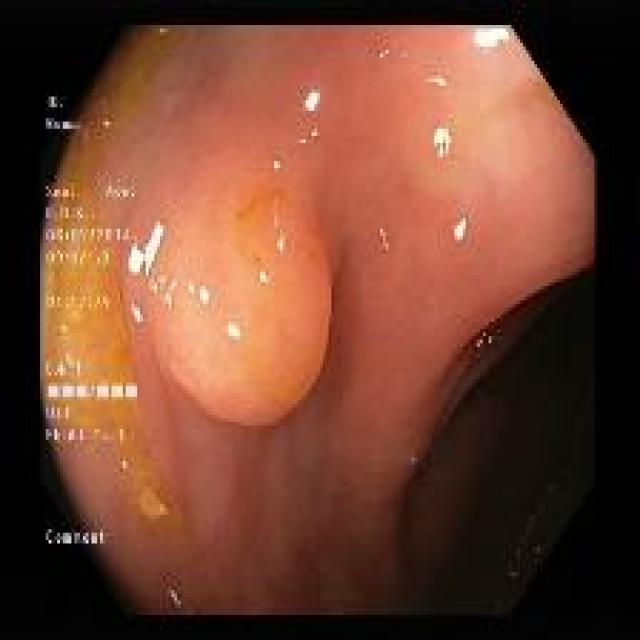Polyps: (141, 189, 332, 427)
